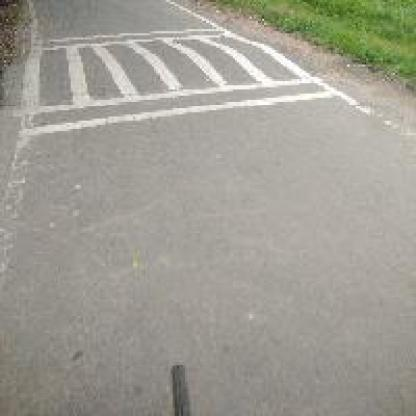Speed Bump: (19, 23, 335, 141)
